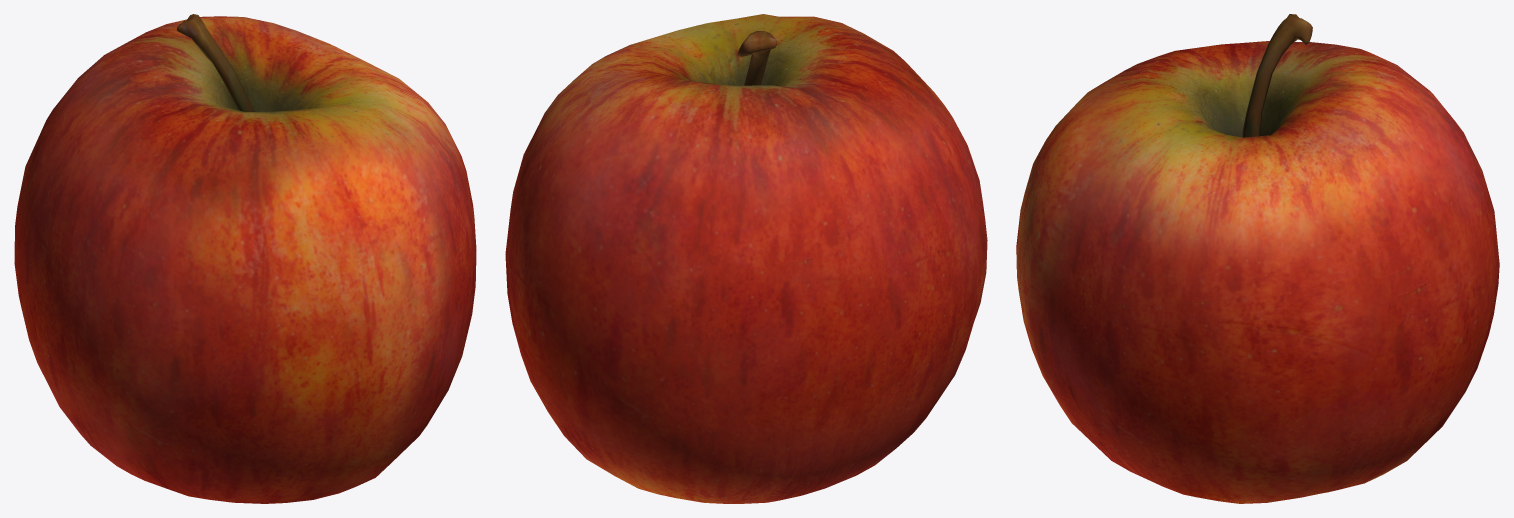
File: manzana.glb
The picture shows the model from 3 angles, left to right: view 1: azimuth 30°, elevation 25°; view 2: azimuth 150°, elevation 25°; view 3: azimuth 270°, elevation 25°; orthographic projection. The views are drawn at different scales.
Visible parts, largest first — view 1: apple_low_obj; view 2: apple_low_obj; view 3: apple_low_obj.
Part boxes in pixels (x1,y1,x2,y2): apple_low_obj: [14, 14, 476, 503]; apple_low_obj: [505, 14, 987, 503]; apple_low_obj: [1016, 14, 1499, 503].
Bounding box in the file's own units: 76.34 × 79.5 × 82.14.
1 material, 1 textured.
